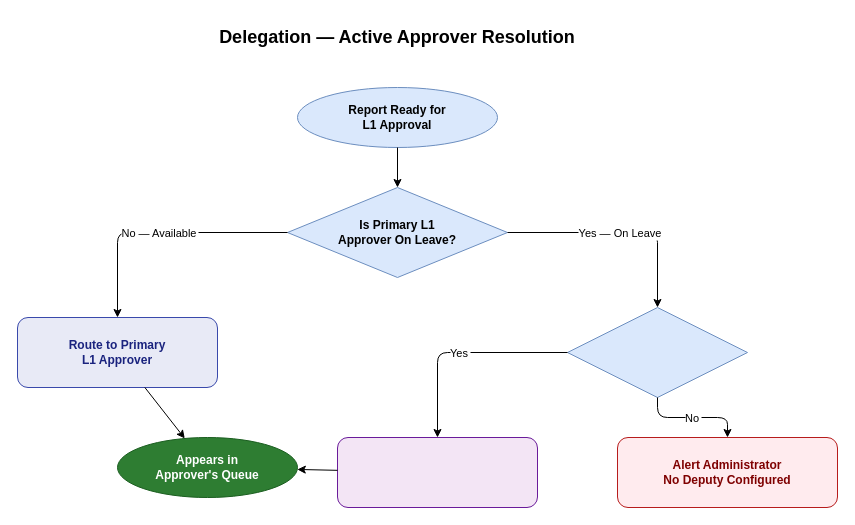
Image size: 855x525. Some labels were removed from this diagram. Each missing label, with the box of its shape:
Is Deputy Configured?: (566, 306, 748, 398)
Route to Designated Deputy: (336, 436, 538, 508)
